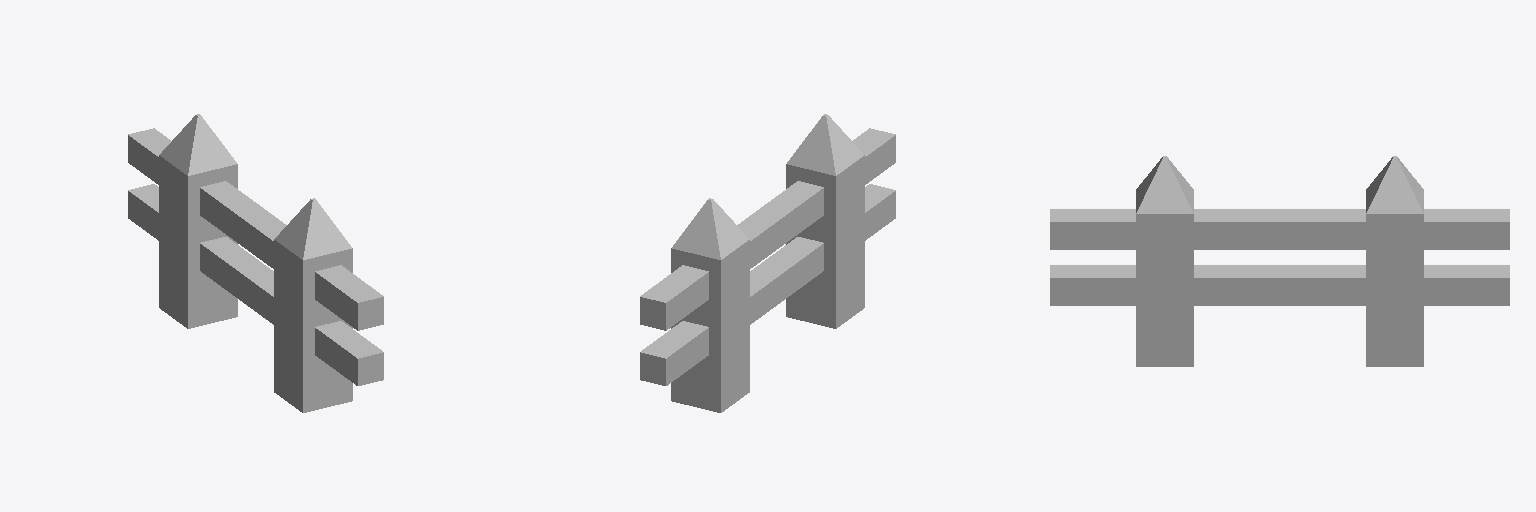
The model's file is Fence.obj.
The picture shows the model from 3 angles: view 1: azimuth 30°, elevation 25°; view 2: azimuth 150°, elevation 25°; view 3: azimuth 270°, elevation 25°; orthographic projection.
Parts seen in each view (by area): view 1: Cube.001_Cube.002, Cube_Cube.001, Cube.002_Cube.003, Cube.003_Cube.004; view 2: Cube_Cube.001, Cube.001_Cube.002, Cube.002_Cube.003, Cube.003_Cube.004; view 3: Cube.002_Cube.003, Cube.003_Cube.004, Cube_Cube.001, Cube.001_Cube.002.
Part boxes in pixels (left/top/right/bottom): Cube.001_Cube.002: left=159, top=114, right=237, bottom=328; Cube_Cube.001: left=274, top=198, right=352, bottom=412; Cube.002_Cube.003: left=128, top=128, right=383, bottom=330; Cube.003_Cube.004: left=128, top=184, right=383, bottom=385; Cube_Cube.001: left=786, top=114, right=864, bottom=328; Cube.001_Cube.002: left=671, top=198, right=749, bottom=412; Cube.002_Cube.003: left=640, top=128, right=895, bottom=330; Cube.003_Cube.004: left=640, top=184, right=895, bottom=385; Cube.002_Cube.003: left=1050, top=209, right=1509, bottom=249; Cube.003_Cube.004: left=1050, top=265, right=1509, bottom=305; Cube_Cube.001: left=1136, top=156, right=1193, bottom=366; Cube.001_Cube.002: left=1366, top=156, right=1423, bottom=366.
Size of the model in its own units: 0.375 by 1.42 by 3.